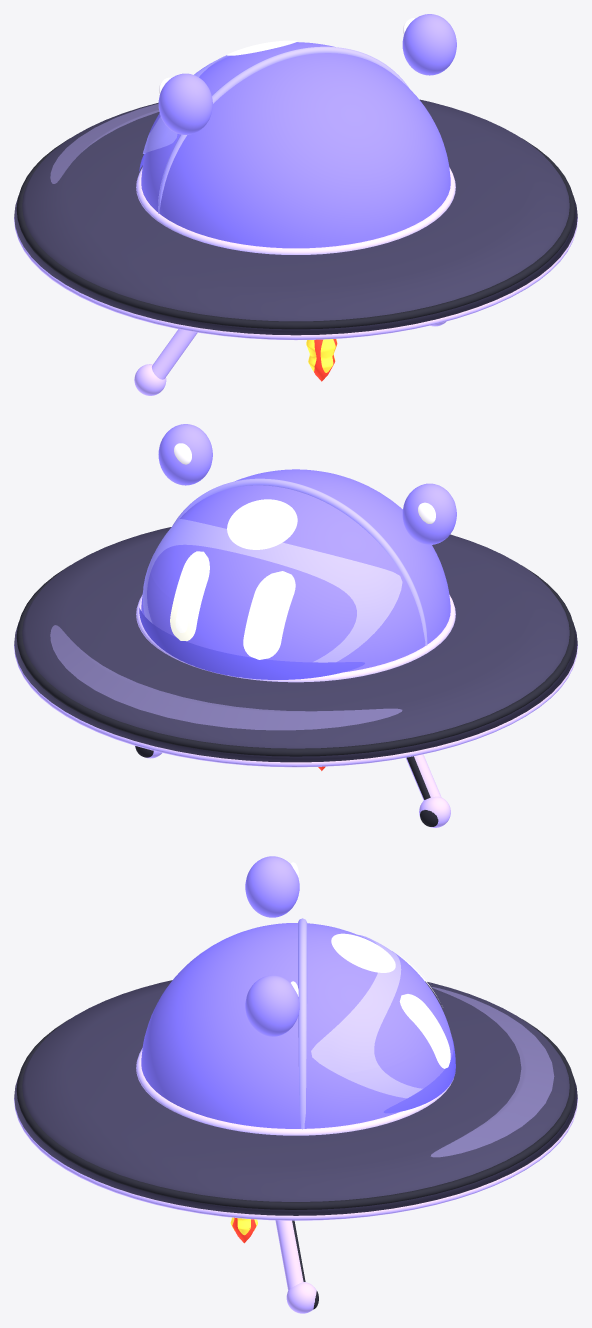
Rendered from ship-02.glb.
The picture shows the model from 3 angles, top to bottom: view 1: azimuth 30°, elevation 25°; view 2: azimuth 150°, elevation 25°; view 3: azimuth 270°, elevation 25°; orthographic projection.
Visible parts, largest first — view 1: 아담스키 D, engine-flame; view 2: 아담스키 D; view 3: 아담스키 D.
Part boxes in pixels (box(x1,y1,x2,y2)): 아담스키 D: box(14, 14, 577, 395); engine-flame: box(306, 339, 337, 381); 아담스키 D: box(14, 424, 577, 827); 아담스키 D: box(14, 856, 577, 1313).
Size of the model in its own units: 27 by 17.19 by 27.
